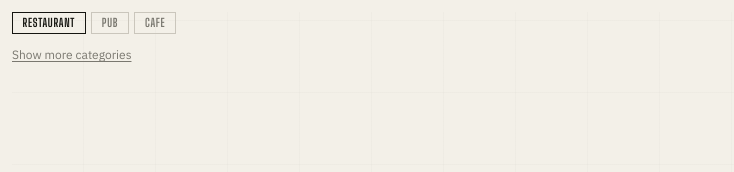
Test: VenueTypeFilter › hides extended chips after collapsing
Click the button "Show more categories". click: (72, 55)
box: [12,47,132,62]
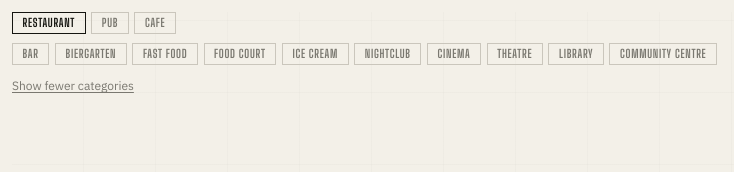
Click the button "Show fewer categories". click: (73, 86)
box: [12,78,134,93]
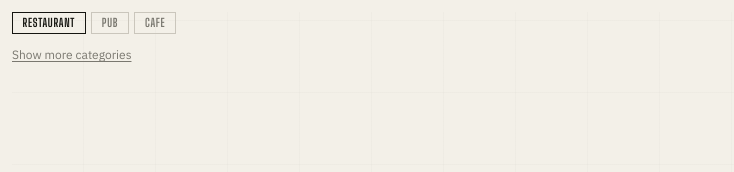
Now the button "Bar" is gone
